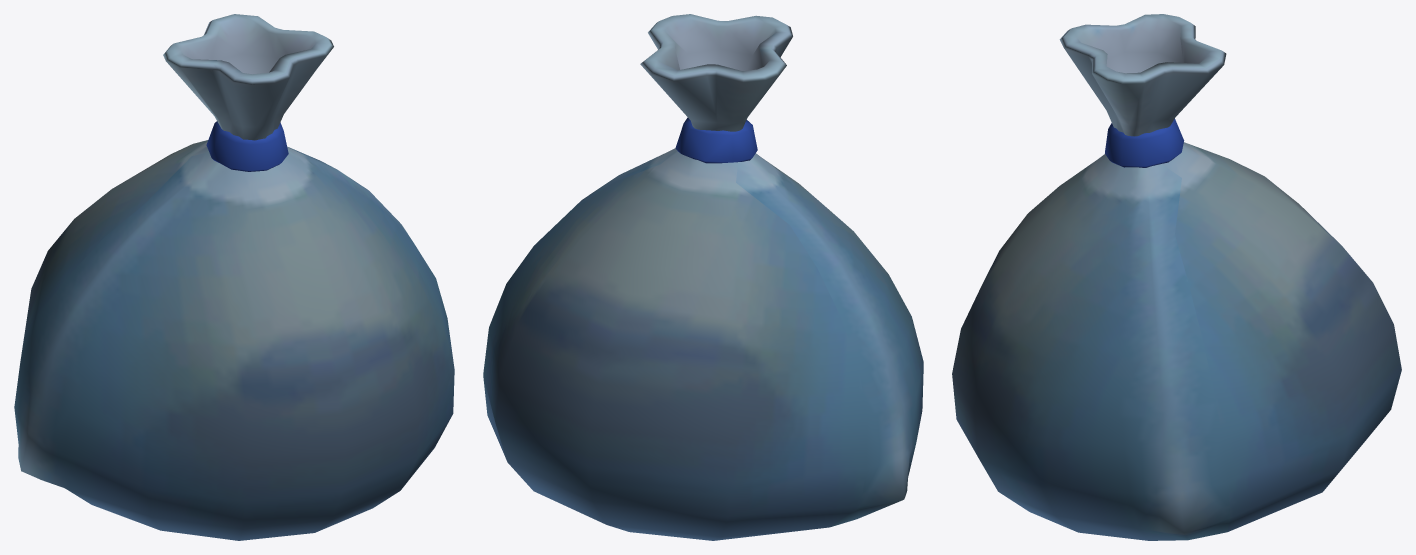
File: UnitIconFish.glb
The picture shows the model from 3 angles, left to right: view 1: azimuth 30°, elevation 25°; view 2: azimuth 150°, elevation 25°; view 3: azimuth 270°, elevation 25°; orthographic projection.
Parts seen in each view (by area): view 1: Body__mBody; view 2: Body__mBody; view 3: Body__mBody.
Boxes of the visible parts, x1,y1,x2,y2 form: Body__mBody: [14, 14, 454, 540]; Body__mBody: [483, 14, 923, 540]; Body__mBody: [952, 14, 1401, 540].
Size of the model in its own units: 4.8 by 5.05 by 4.54.
Materials: 1 (1 with a texture image).
